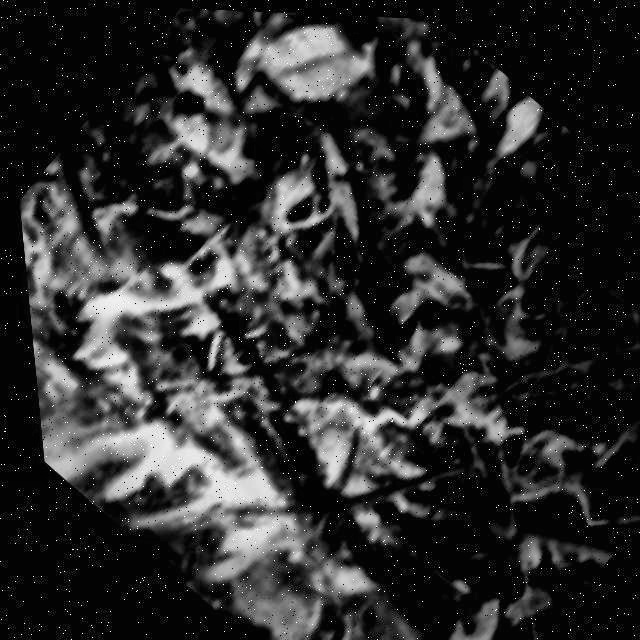Fire: (7, 91, 520, 640)
